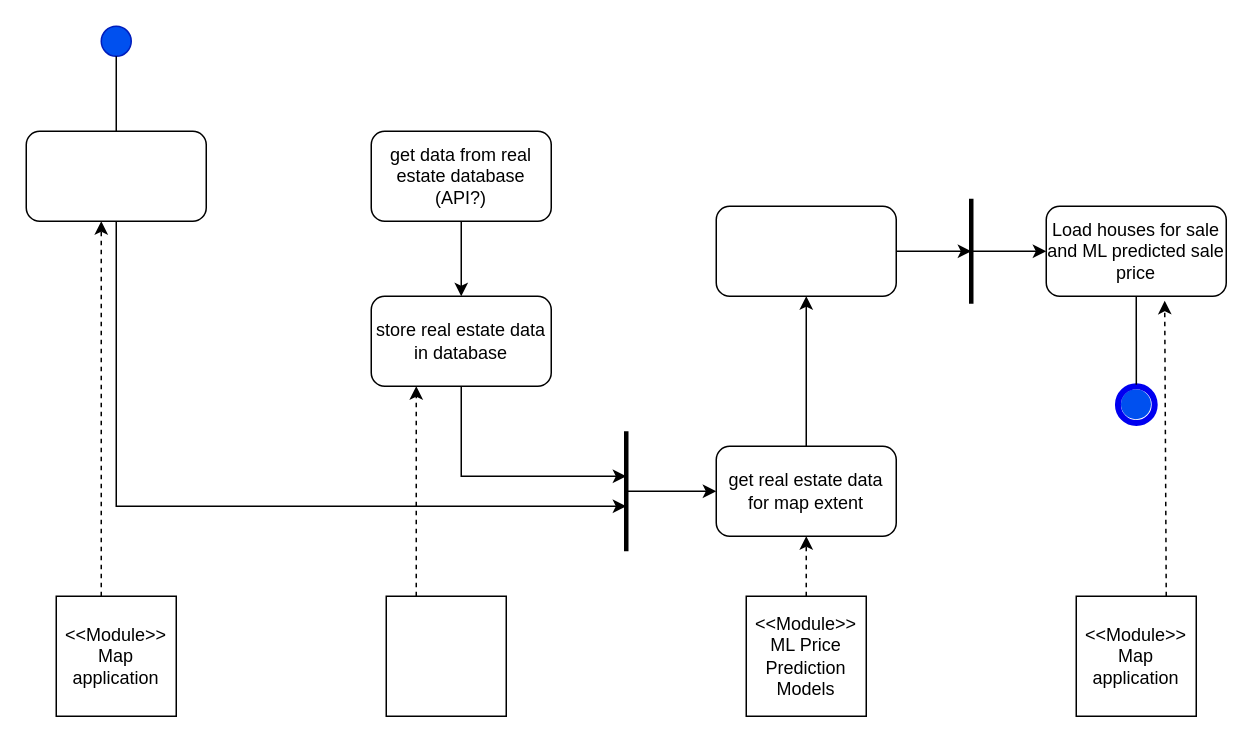
This 1253x743 diagram has some shape labels left out. The shapes that lost their labels are listed below. From the top down, each one's box as (x1, y1, x2, y2) in pixels, then its label:
(25, 130, 206, 221): Page loads to map extent for user location
(715, 205, 896, 296): Perform ML Model (Random Forest + Regression)
(385, 595, 506, 716): <<Module>> Real Estate Data Scraper
